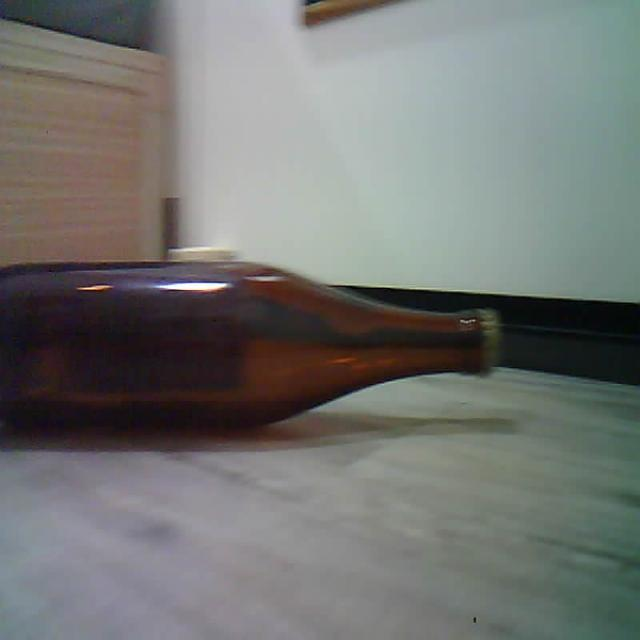bottle: (0, 262, 499, 431)
